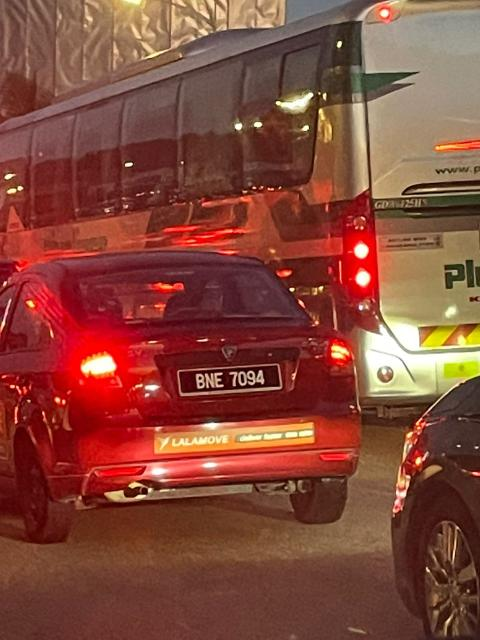License_Plate: (181, 362, 272, 397)
car: (1, 261, 369, 541)
